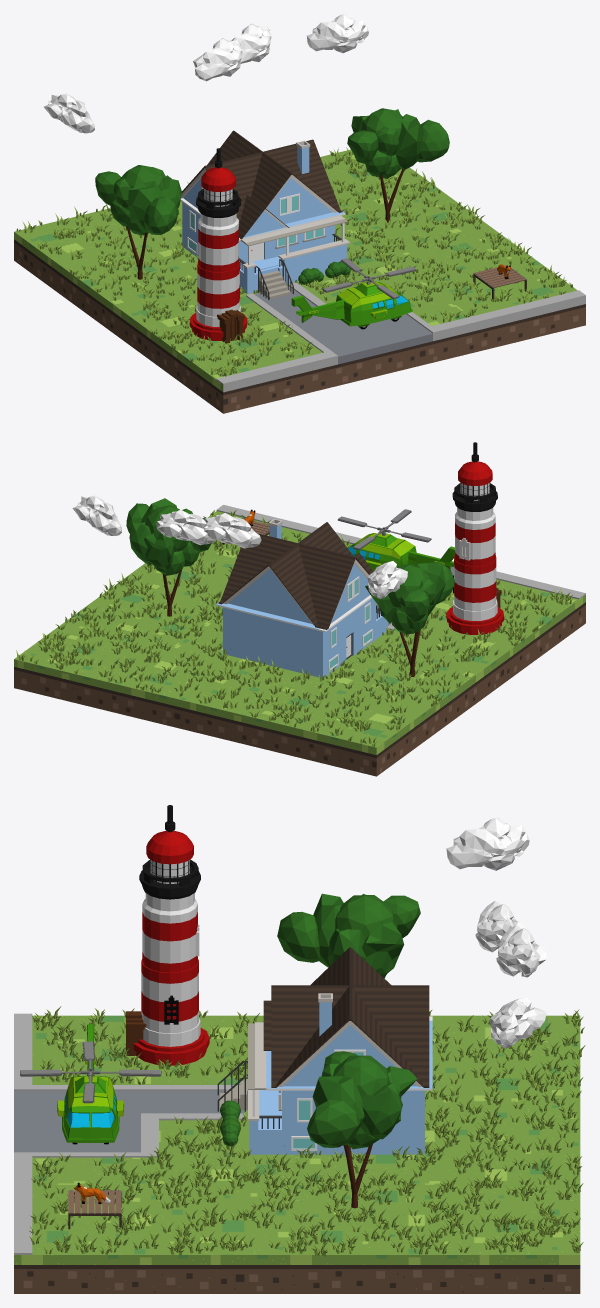
3 views of the same model, one above another, from view 1: azimuth 30°, elevation 25°; view 2: azimuth 150°, elevation 25°; view 3: azimuth 270°, elevation 25° (orthographic). The views are drawn at different scales.
Parts seen in each view (by area): view 1: Cube.006, Circle.012_Grass_0.192, Cube.1594, OBJRANDOM_LIGHTHOUSE, Cube.007, tree, tree.001, VEHICLES_HELICOPTER, Cube.009; view 2: Cube.006, Cube.1594, Circle.012_Grass_0.192, OBJRANDOM_LIGHTHOUSE, Cube.007, tree.001, tree, VEHICLES_HELICOPTER; view 3: Cube.006, Circle.012_Grass_0.192, Cube.1594, OBJRANDOM_LIGHTHOUSE, tree, Cube.007, tree.001, VEHICLES_HELICOPTER, Cube.009.
Part boxes in pixels (x1,y1,x2,y2): Cube.006: [14, 149, 585, 413]; Circle.012_Grass_0.192: [16, 147, 573, 376]; Cube.1594: [180, 130, 349, 300]; OBJRANDOM_LIGHTHOUSE: [189, 148, 247, 343]; Cube.007: [44, 14, 368, 133]; tree: [347, 108, 449, 222]; tree.001: [95, 165, 181, 279]; VEHICLES_HELICOPTER: [291, 258, 416, 329]; Cube.009: [473, 265, 526, 299]; Cube.006: [14, 505, 585, 776]; Cube.1594: [215, 519, 387, 678]; Circle.012_Grass_0.192: [16, 510, 572, 746]; OBJRANDOM_LIGHTHOUSE: [446, 442, 503, 634]; Cube.007: [72, 495, 407, 599]; tree.001: [365, 562, 454, 676]; tree: [126, 498, 211, 616]; VEHICLES_HELICOPTER: [337, 509, 454, 571]; Cube.006: [14, 1013, 580, 1293]; Circle.012_Grass_0.192: [29, 1006, 585, 1256]; Cube.1594: [217, 947, 432, 1154]; OBJRANDOM_LIGHTHOUSE: [126, 805, 209, 1065]; tree: [307, 1051, 417, 1208]; Cube.007: [446, 817, 546, 1048]; tree.001: [277, 893, 420, 978]; VEHICLES_HELICOPTER: [20, 1024, 161, 1144]; Cube.009: [68, 1190, 121, 1229].
Size of the model in its own units: 4071 by 2310 by 4040.
40 materials, 4 textured.
